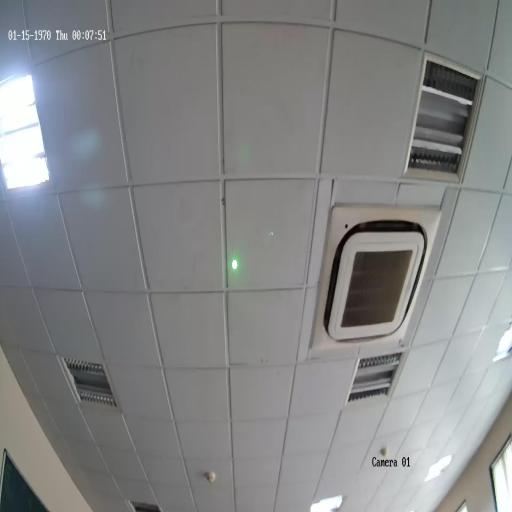laser: (231, 258, 238, 272)
